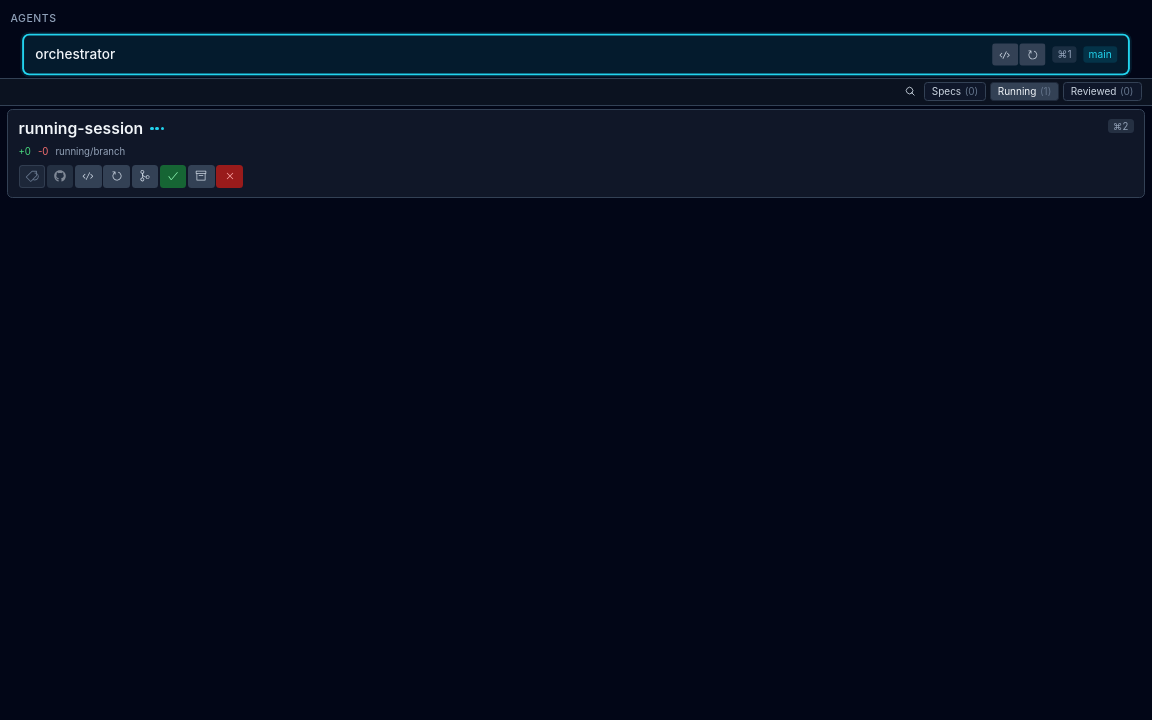
it: Sidebar keyboard navigation basic › allows converting running sessions to specs with Cmd+S
Expected: the text "running-session" is shown, [18,119,143,138]
Click the button "running-session ⌘2 +0 -0 running/branch": x=81, y=128 [7,109,1145,198]
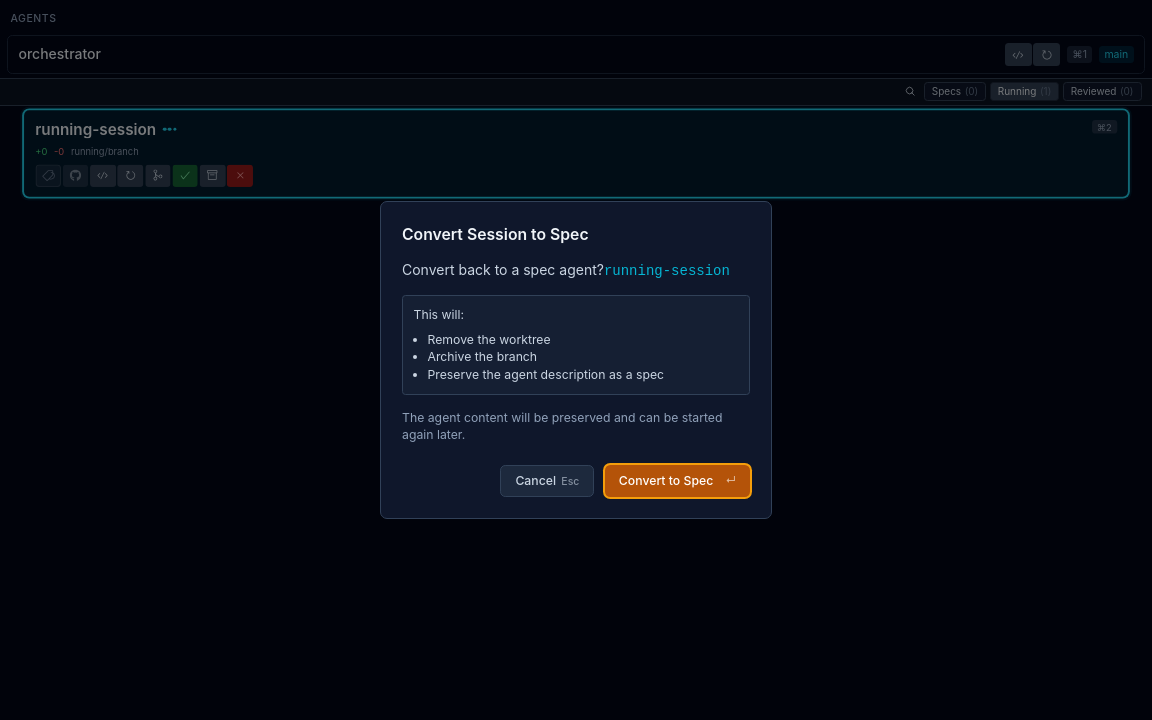
Result: the text "Convert to Spec" is shown at [619,473,713,489]
